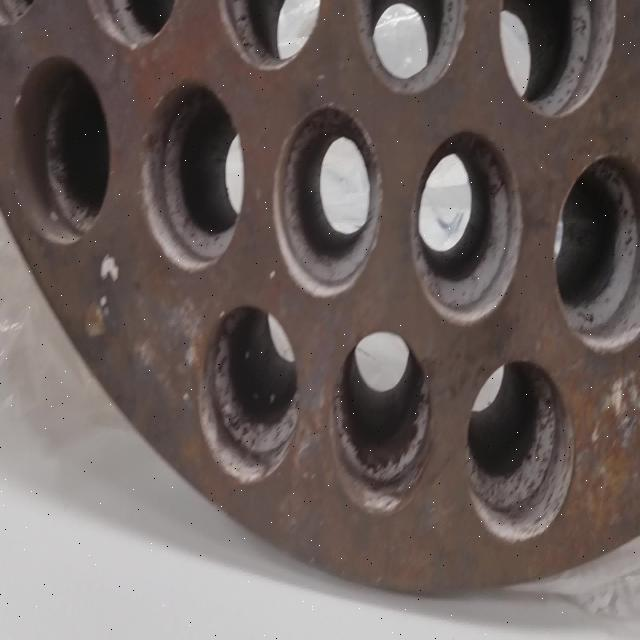Hole: (410, 128, 522, 324), (273, 105, 383, 298), (140, 78, 245, 272), (466, 360, 576, 543), (10, 54, 111, 246), (197, 300, 301, 484), (330, 330, 432, 516), (553, 152, 639, 352), (497, 0, 618, 120), (354, 0, 470, 95)
